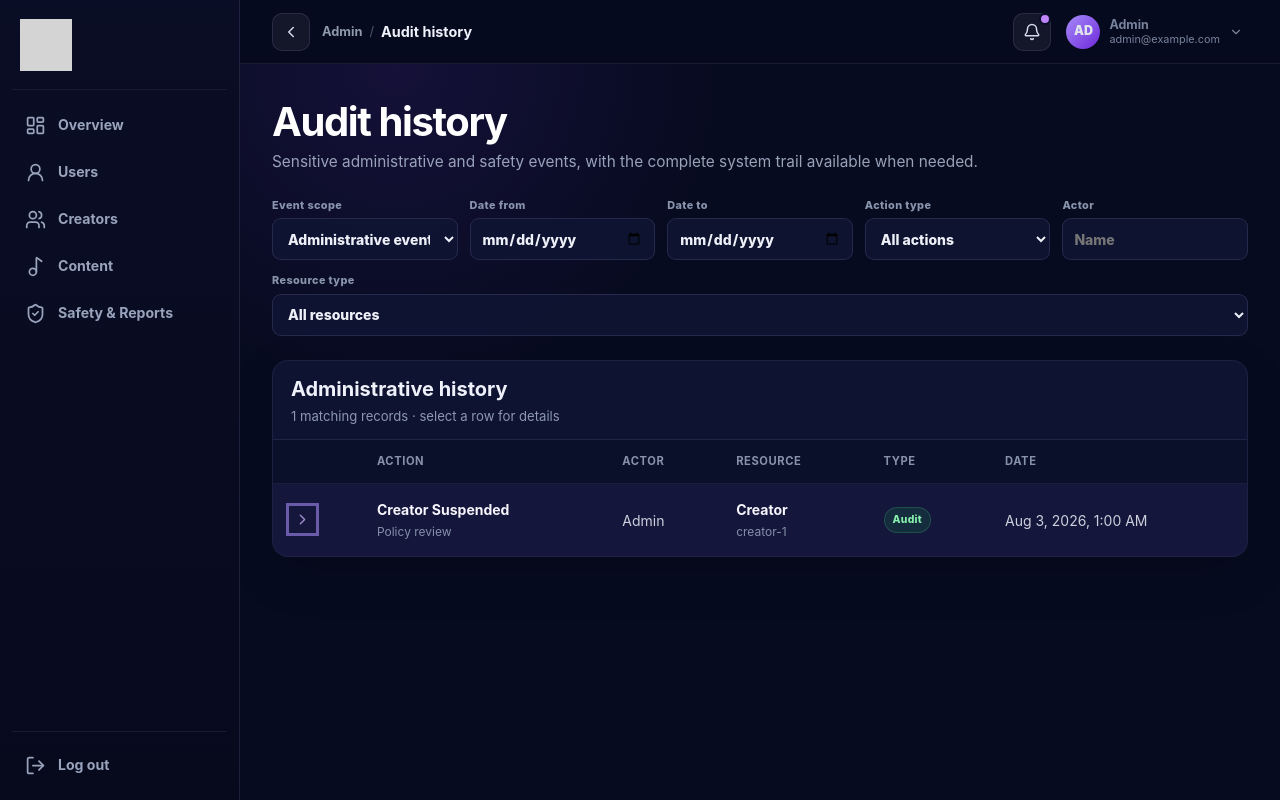
Test: consolidated admin routes › keeps expanded audit rows keyboard-operable while animating their disclosure
Click the button named "Show details for Creator Suspended". click: (302, 519)
box: [291,508,314,531]
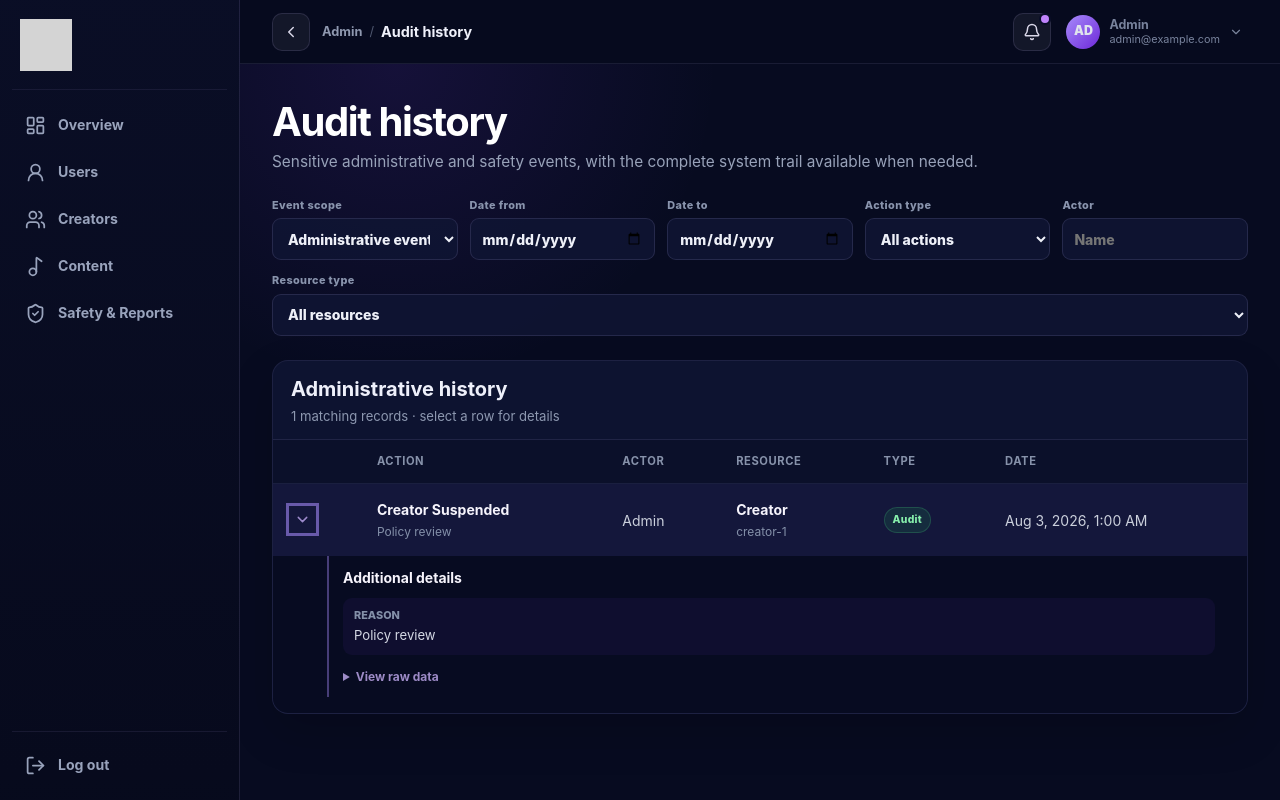
Check: the button named "Hide details for Creator Suspended" is expanded
Check: the text "Additional details" is shown, box [343,569,462,586]
Click the button named "Hide details for Creator Suspended". click: (302, 519)
box: [291,508,314,531]
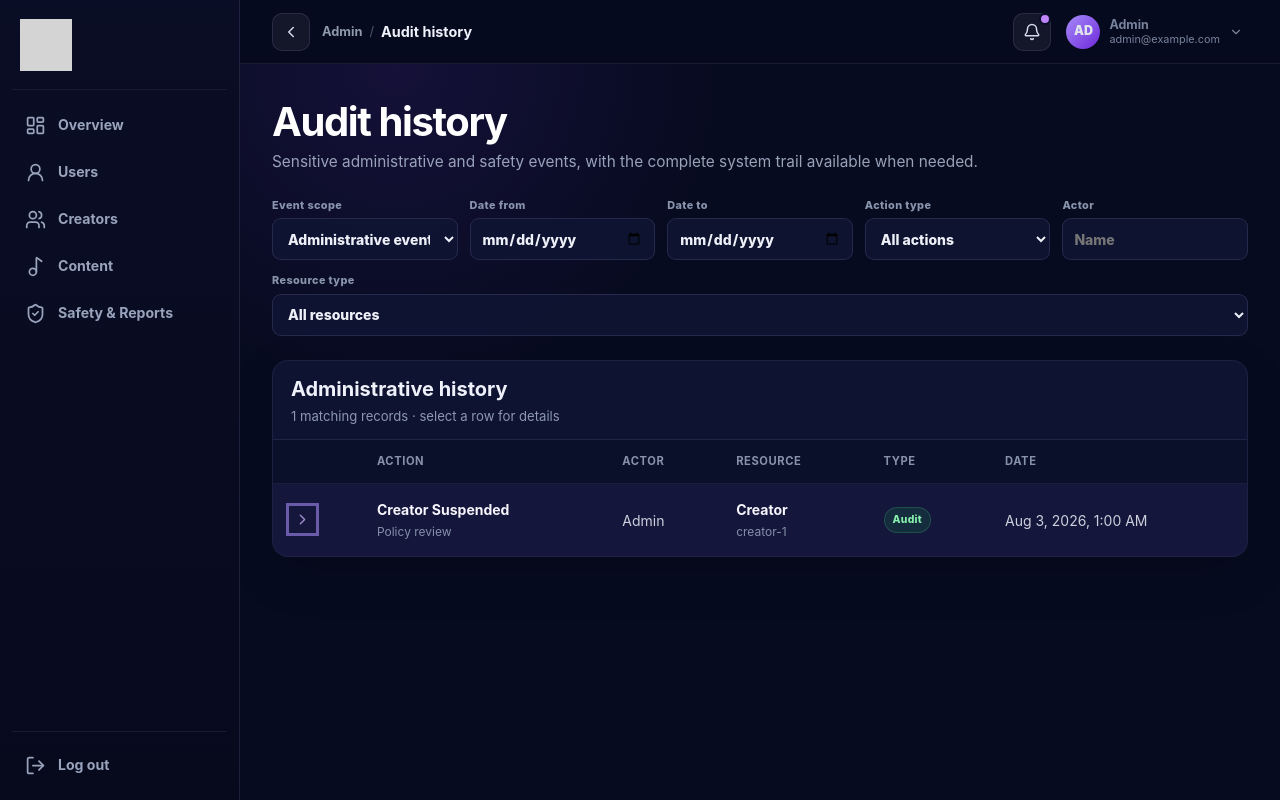
Check: the button named "Show details for Creator Suspended" is collapsed, box [291,508,314,531]
